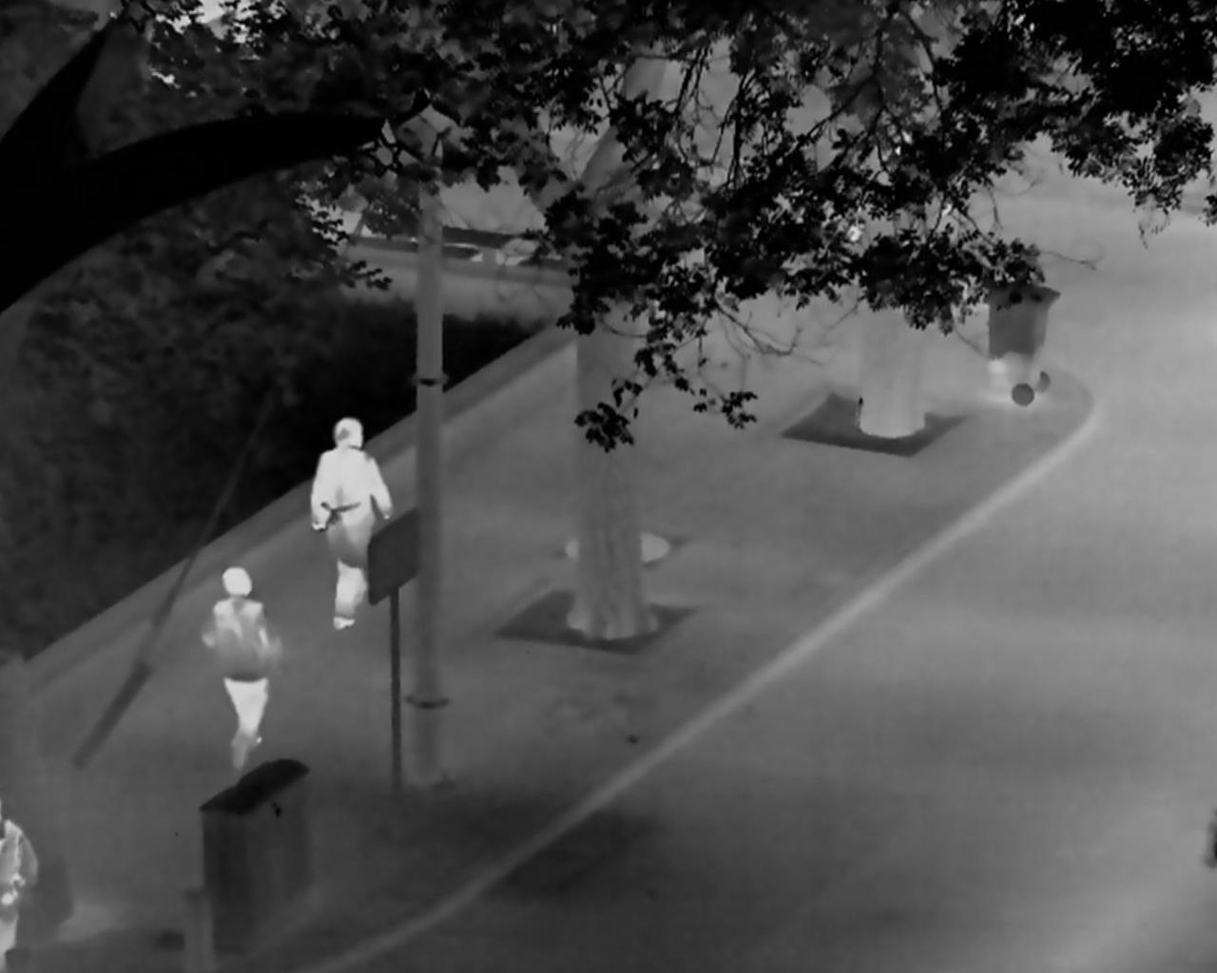person: (309, 413, 396, 633), (202, 565, 282, 779)
